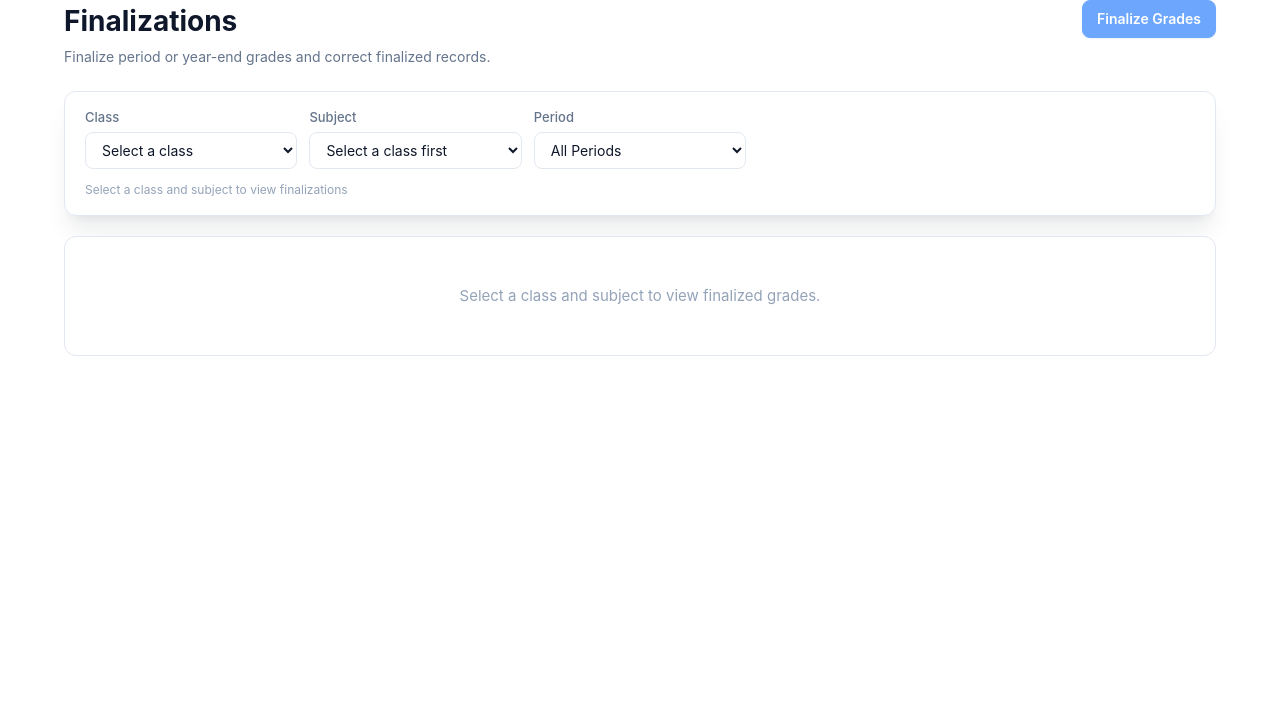
Test case: FinalizationsPage › saves a valid correction and refreshes the list
Step 1. Select "Grade 7 · Diamond" in the 1st dropdown showing "Select a class" → (191, 150), box [85,132,297,168]
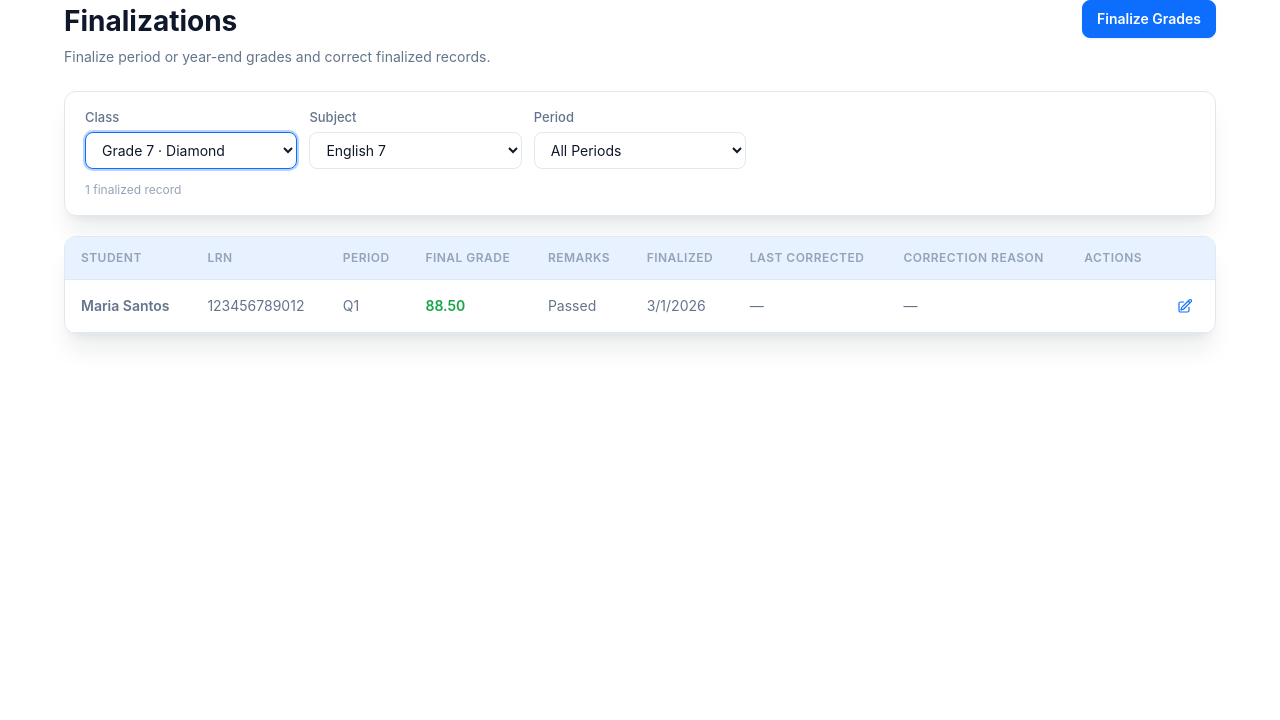
expect the text "Maria Santos" is shown: met, box [65,279,191,332]
Step 2. Click the button named "Correct finalized grade" → click(1185, 306), box [1171,292,1199,320]
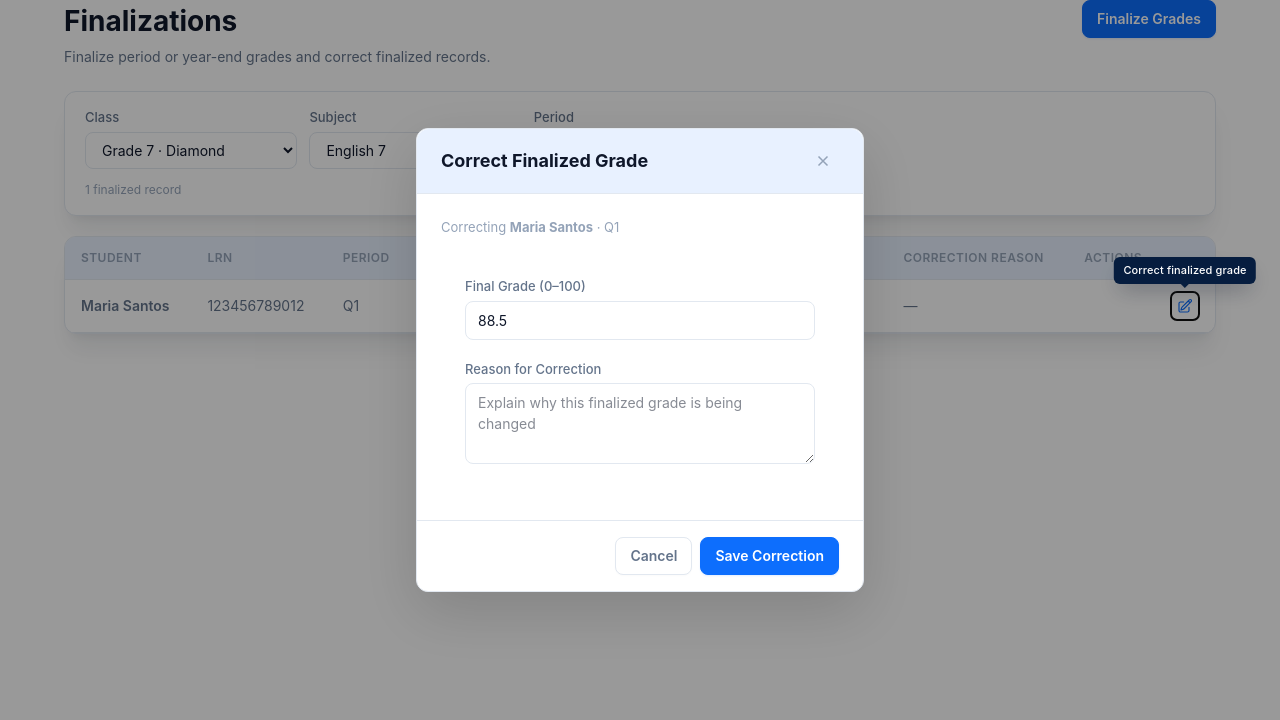
Step 3. Replace the text in the number field showing "88.5" with "90" → (640, 320), box [465,301,815,340]
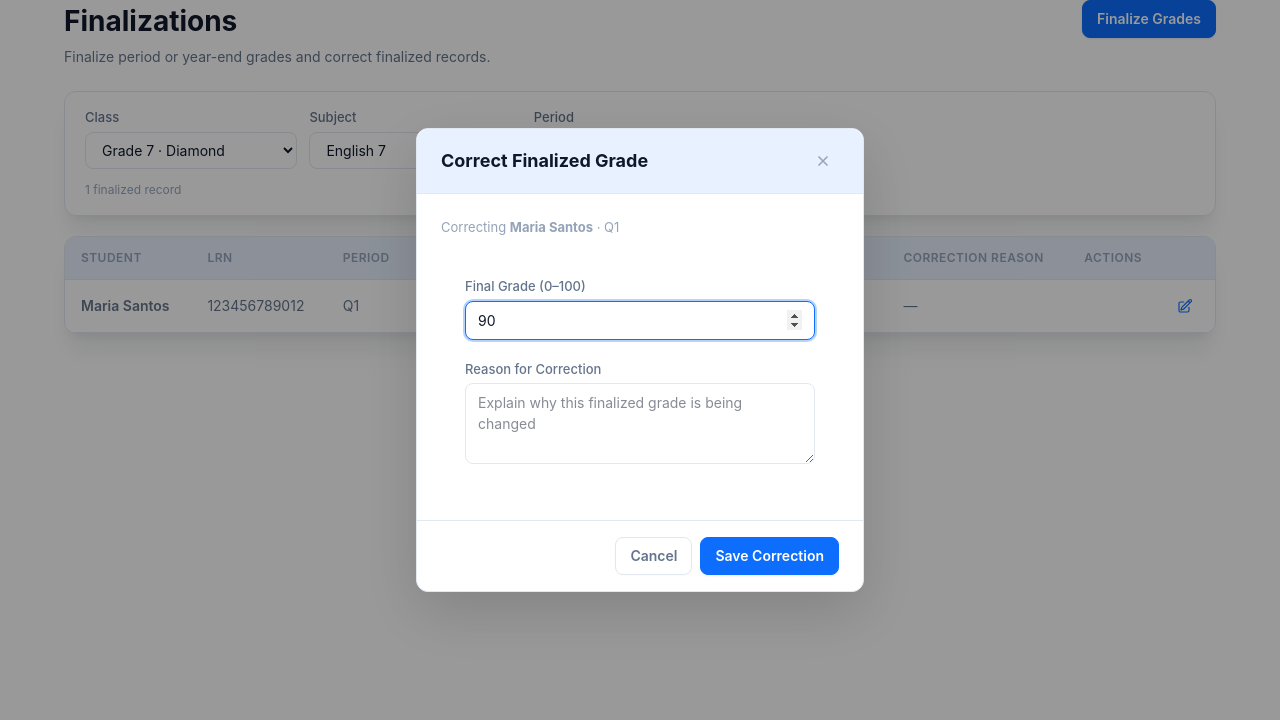
Step 4. Type "Encoding error" into the text box with placeholder "Explain why this finalized grade is being changed" → (640, 424), box [465,383,815,464]
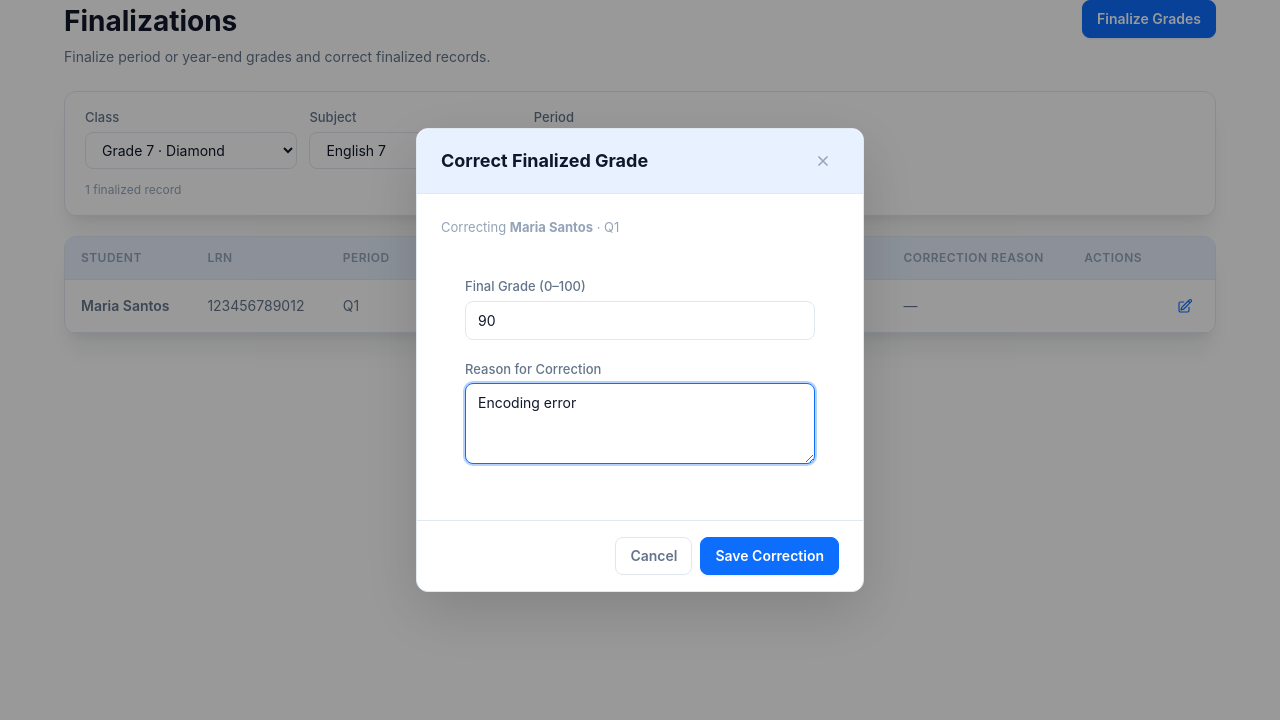
Step 5. Click the button "Save Correction" → click(770, 556), box [700,537,839,575]
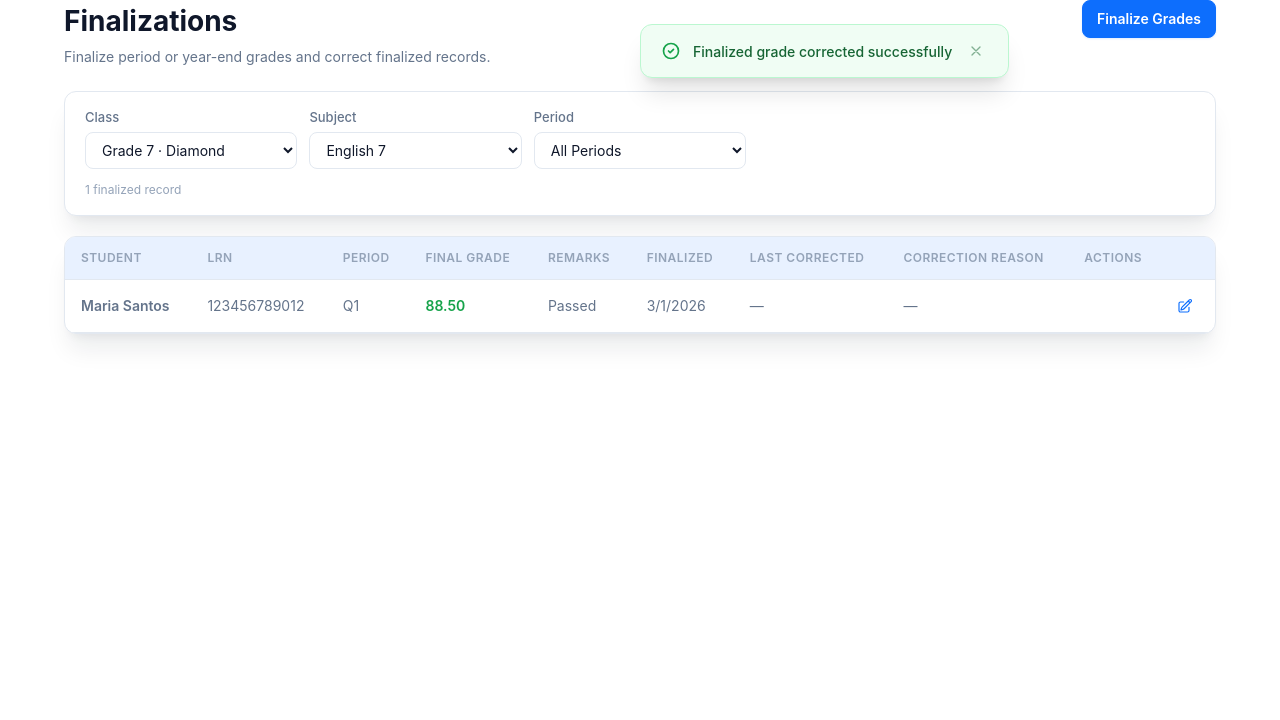
expect the text "Finalized grade corrected successfully" is shown: met, box [693,40,952,62]
